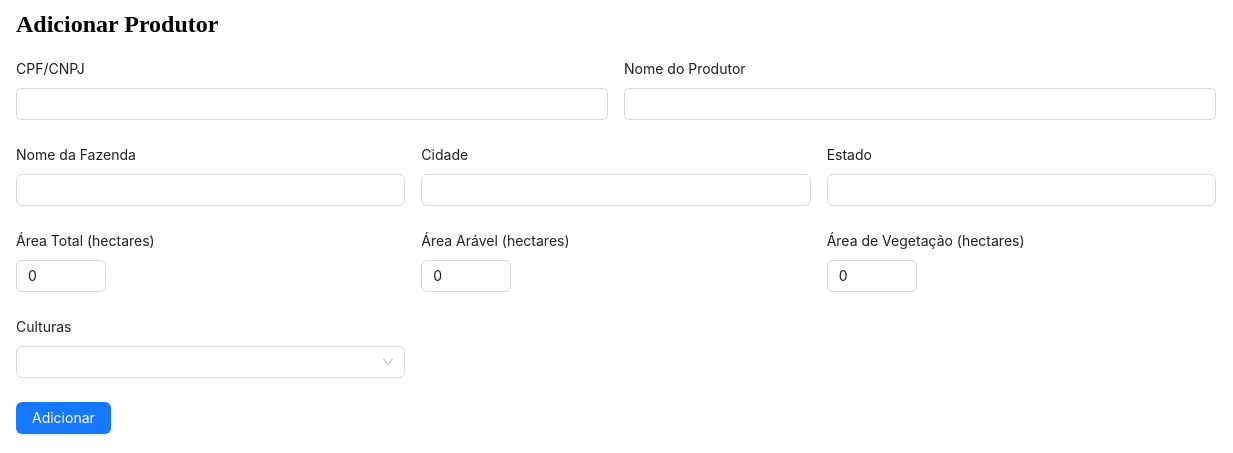
Test: ProducerForm › deve mostrar mensagens de erro para campos obrigatórios não preenchidos
This screenshot has width=1233, height=453.
Click the button "Adicionar". click: (63, 418)
box: left=16, top=402, right=111, bottom=434
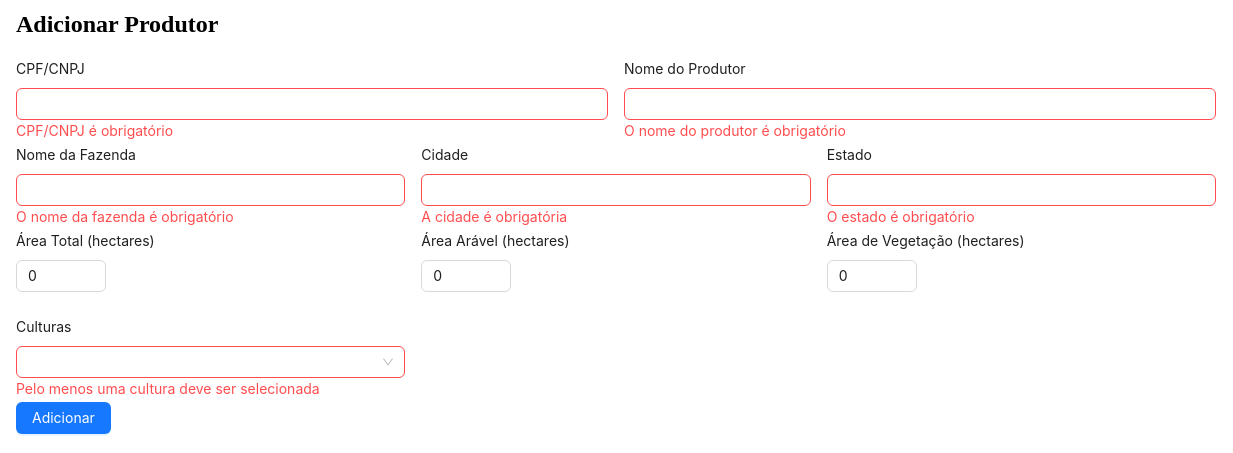
Result: the text "CPF/CNPJ é obrigatório" is shown at left=16, top=122, right=173, bottom=139
Result: the text "O nome do produtor é obrigatório" is shown at left=624, top=122, right=846, bottom=139
Result: the text "O nome da fazenda é obrigatório" is shown at left=16, top=208, right=234, bottom=225
